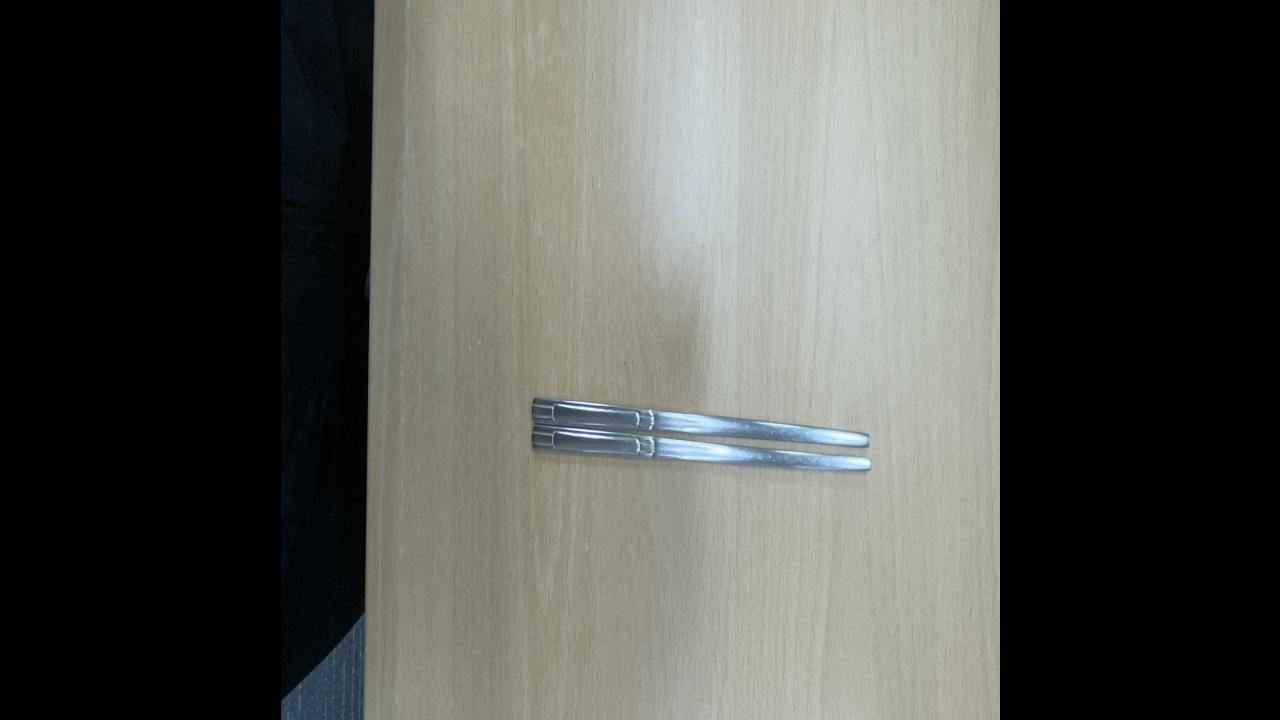chopstick: (528, 384, 874, 482)
